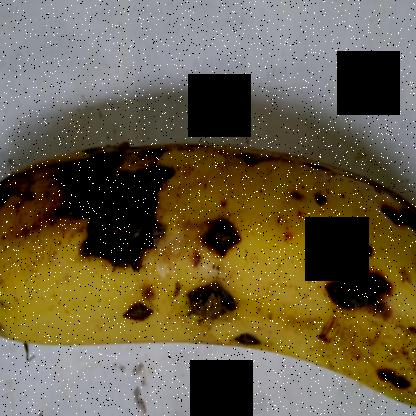ripe: (1, 108, 415, 415)
rotten: (23, 106, 176, 278), (325, 266, 398, 336), (184, 194, 248, 268), (178, 268, 243, 325), (110, 279, 163, 337), (325, 226, 381, 278), (379, 188, 416, 251), (375, 356, 415, 408), (233, 327, 274, 358)
